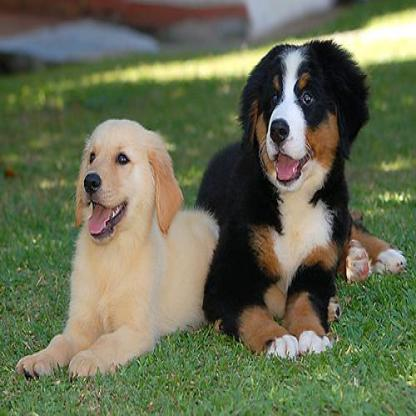Bernese_mountain_dog: (190, 40, 404, 364), (13, 116, 220, 381)
